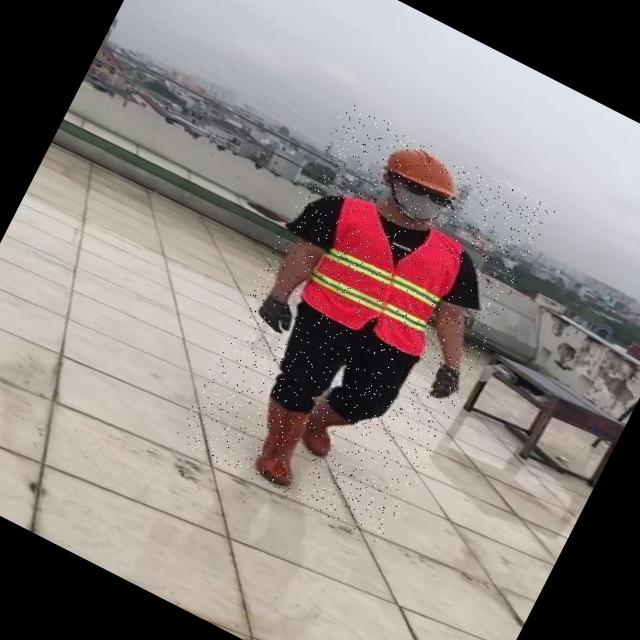hard_hat: (382, 136, 470, 203)
safety_vest: (289, 189, 473, 364)
vehicle: (174, 101, 556, 548)
work_boots: (231, 393, 324, 492), (290, 392, 364, 470)
